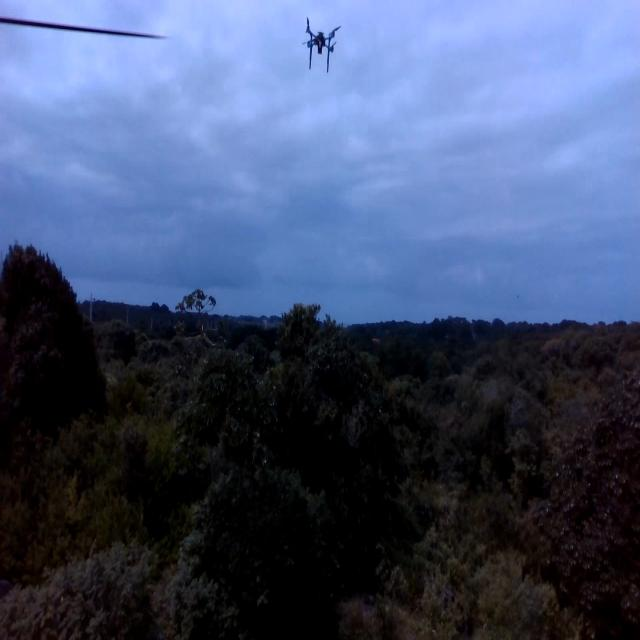-uav-: (298, 6, 344, 93)
